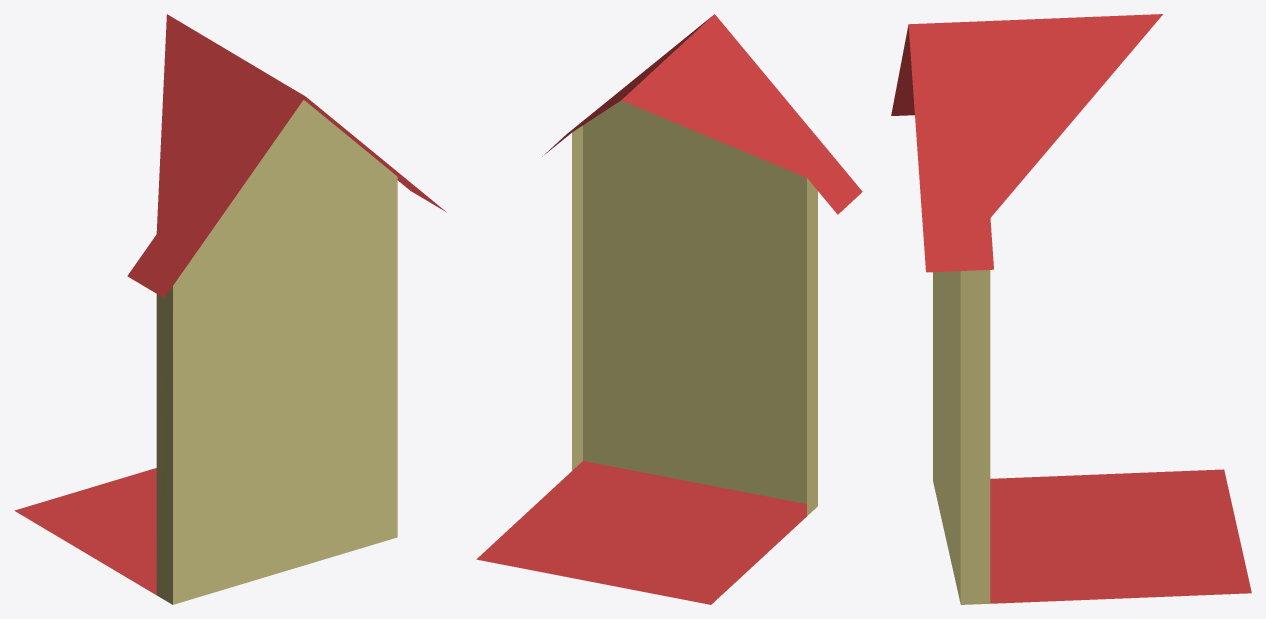
The picture shows the model from 3 angles, left to right: view 1: azimuth 30°, elevation 25°; view 2: azimuth 150°, elevation 25°; view 3: azimuth 270°, elevation 25°; orthographic projection. The views are drawn at different scales.
Bounding box in the file's own units: 7.32 × 7.02 × 11.17.
